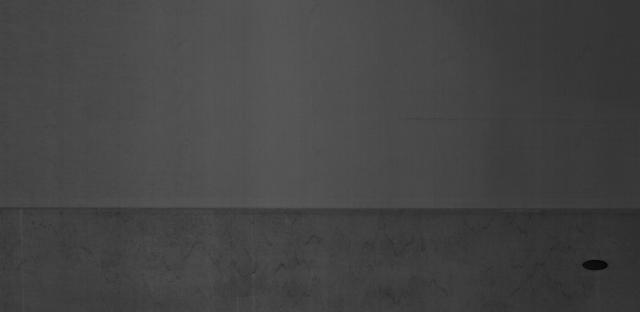punching_hole: (580, 258, 610, 274)
silk_spot: (7, 218, 569, 306)
welding_line: (3, 199, 633, 216)
